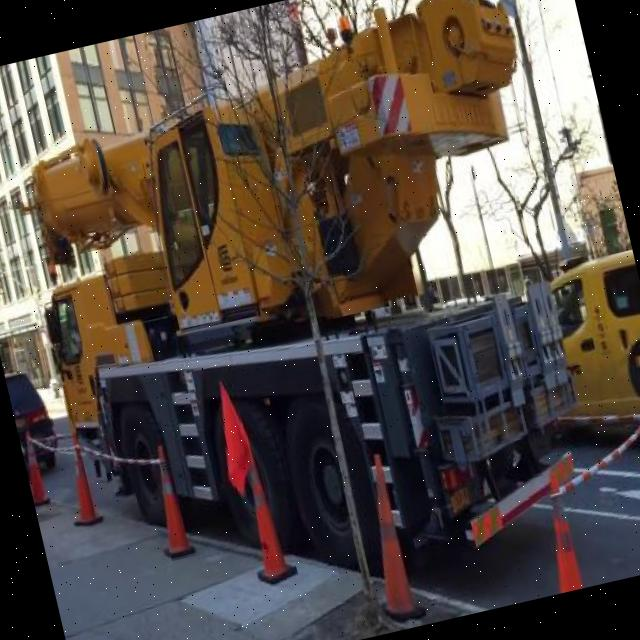Mobile Crane: (0, 0, 619, 619)
